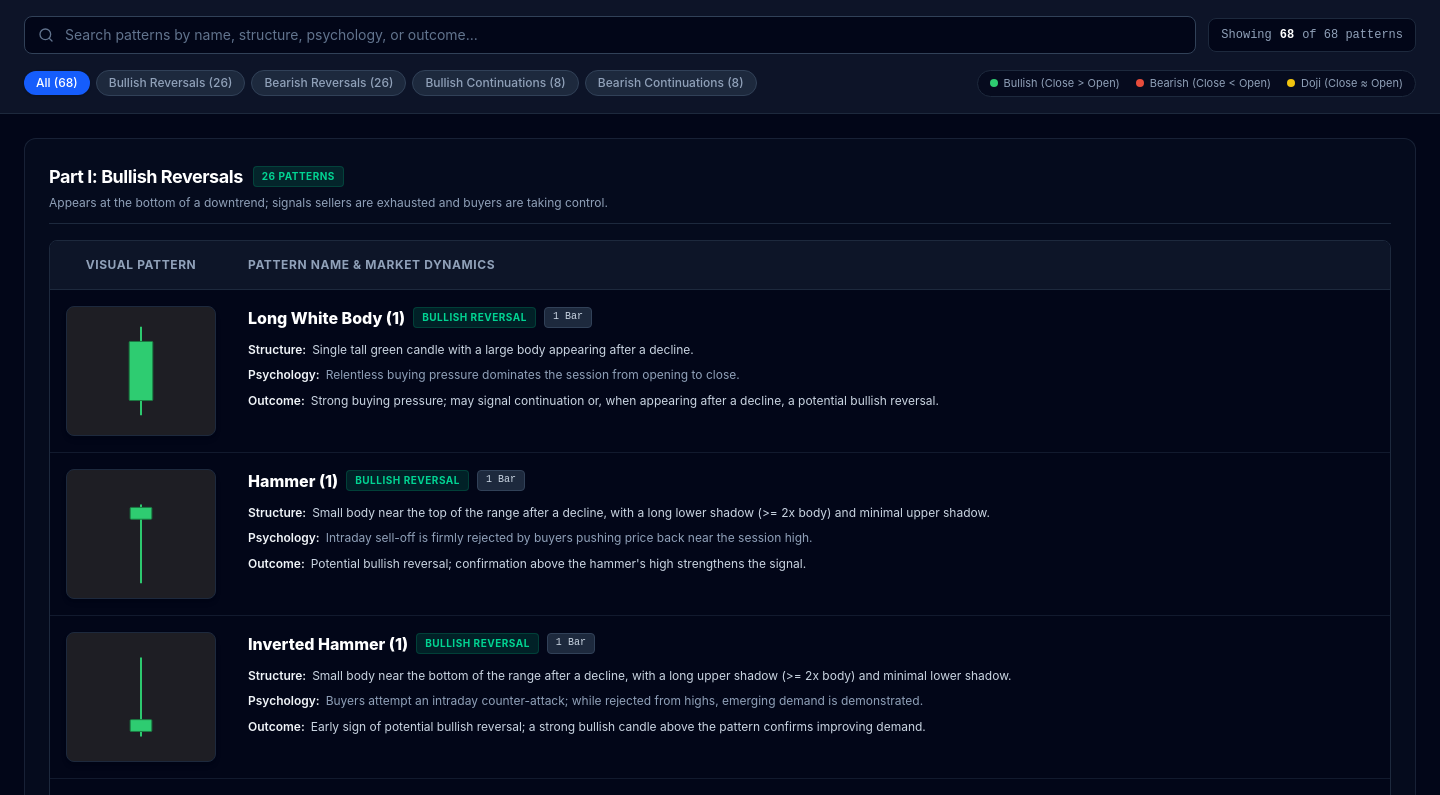
Test: CandlestickPatternEncyclopedia › clears search input when clear button is clicked
Replace the text in the field with placeholder "Search patterns" with "morning star". click: (610, 35)
box: [24,16,1196,54]
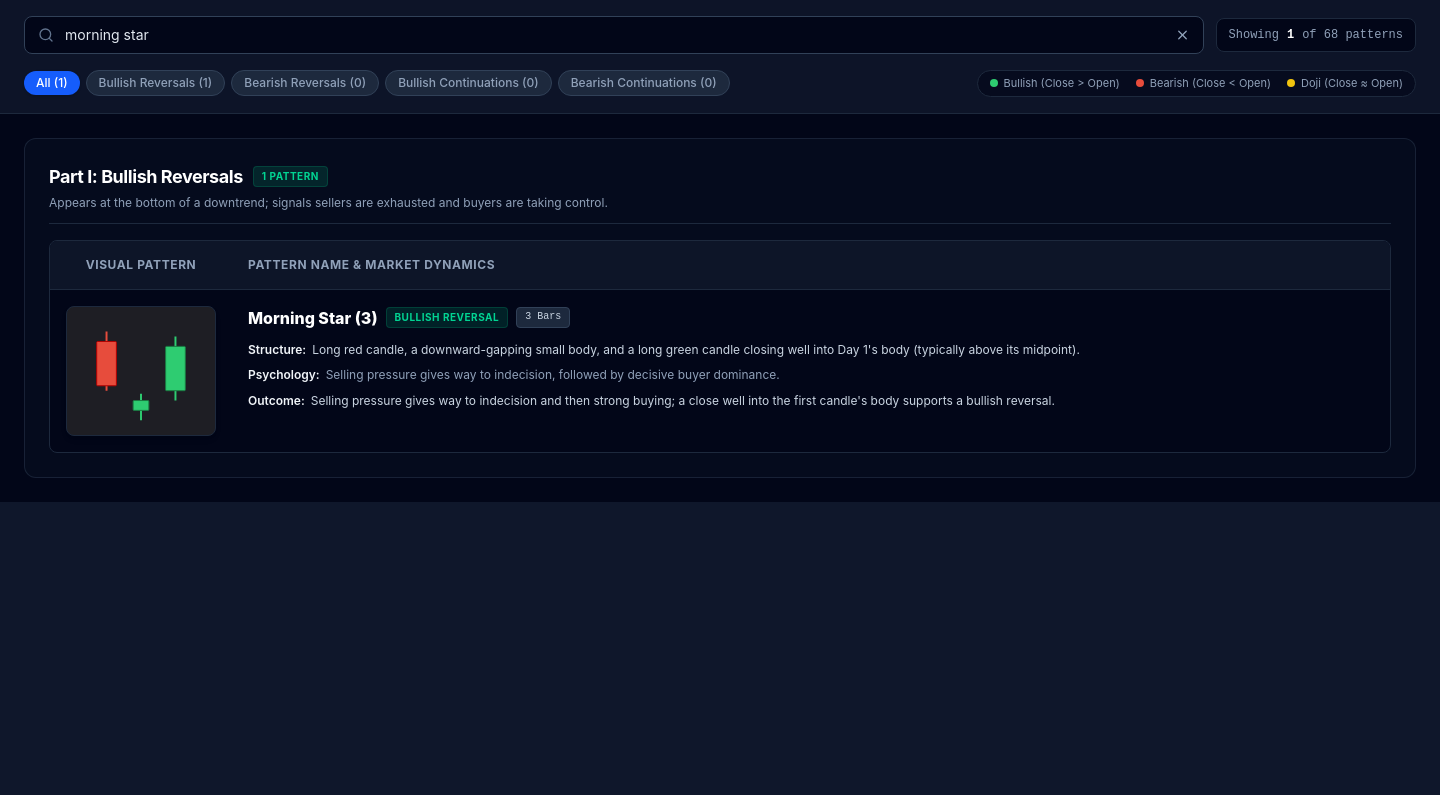
Click the button named "Clear search". click: (1182, 35)
box: [1172,26,1192,44]
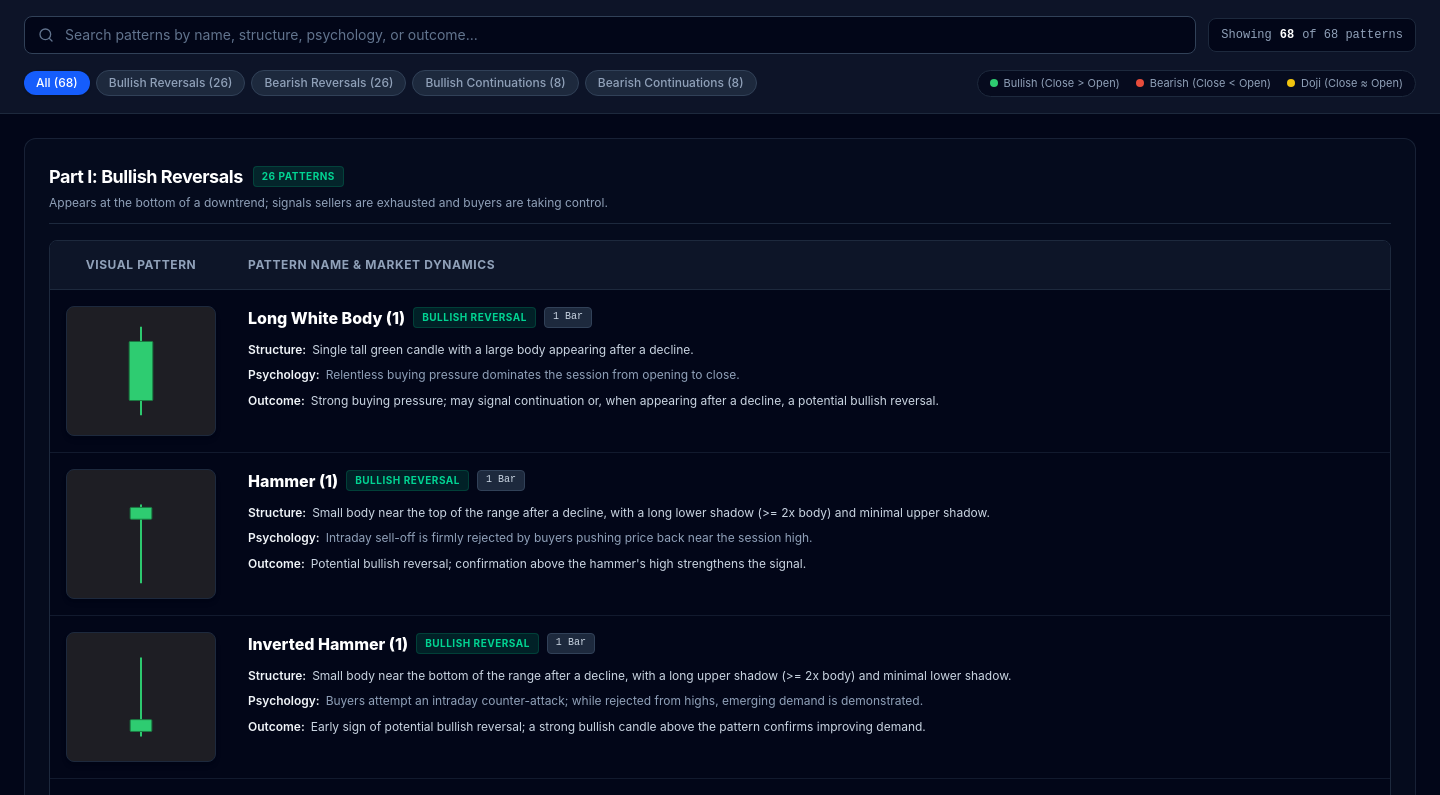
expect the field with placeholder "Search patterns" is empty: met, box [24,16,1196,54]
expect the heading "Hammer (1)" is shown: met, box [248,468,338,492]
